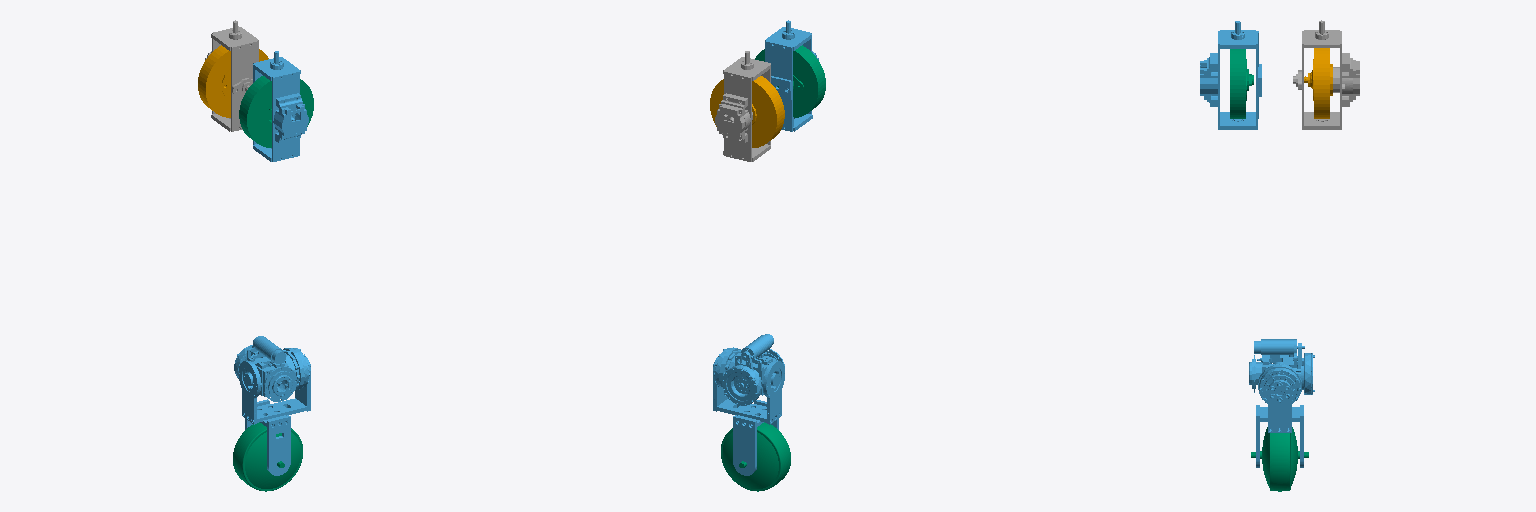
--- Facts derived from the render (not from the file) ---
The picture shows the robot from 3 angles, left to right: view 1: azimuth 30°, elevation 25°; view 2: azimuth 150°, elevation 25°; view 3: azimuth 270°, elevation 25°; orthographic projection.
Robot: wheeled_inverted_pendulum — 11 links, 10 joints (4 revolute, 3 continuous, 3 fixed); root link ankle; default pose: all joints at 0.
Links seen in each view (by area): view 1: ankle_link, Right_gimbal, wheel_link, Left_gimbal, Right_flywheel, Left_flywheel; view 2: ankle_link, Left_gimbal, wheel_link, Right_gimbal, Left_flywheel, Right_flywheel; view 3: ankle_link, Left_gimbal, Right_gimbal, wheel_link, Left_flywheel, Right_flywheel.
Boxes of the visible links, left/top/right/bottom form: ankle_link: left=234, top=336, right=310, bottom=475; Right_gimbal: left=253, top=51, right=308, bottom=161; wheel_link: left=233, top=422, right=302, bottom=491; Left_gimbal: left=205, top=20, right=258, bottom=131; Right_flywheel: left=239, top=76, right=313, bottom=147; Left_flywheel: left=198, top=45, right=268, bottom=117; ankle_link: left=713, top=334, right=784, bottom=475; Left_gimbal: left=715, top=51, right=770, bottom=161; wheel_link: left=721, top=422, right=790, bottom=491; Right_gimbal: left=765, top=20, right=818, bottom=131; Left_flywheel: left=710, top=76, right=784, bottom=147; Right_flywheel: left=755, top=45, right=825, bottom=117; ankle_link: left=1249, top=339, right=1314, bottom=467; Left_gimbal: left=1293, top=20, right=1359, bottom=129; Right_gimbal: left=1200, top=21, right=1261, bottom=129; wheel_link: left=1251, top=427, right=1308, bottom=491; Left_flywheel: left=1304, top=48, right=1332, bottom=118; Right_flywheel: left=1230, top=49, right=1253, bottom=118.
Bounding box of the posed robot: 0.1868 × 0.3059 × 0.968 m (x, y, z).
6 mesh visuals loaded from 9 distinct referenced files (6 binary STL); not drawn: 3 (reference not matched to a file when rendering).

robot.urdf — wheeled_inverted_pendulum:
<?xml version="1.0"?>

<robot name="wheeled_inverted_pendulum">

        <link name="ankle">		    
		</link>

        <joint name="cmg_joint" type="fixed">
		    <origin xyz="0 0 0.24" rpy="0.0 0.0 0.0" /> 
		    <parent link="ankle"/>
		    <child link="ankle_link"/>
            <!-- <axis xyz="0 1 0"/>
            <limit effort="100" velocity="1000"/>
            <joint_properties damping="1.0" friction="1.0"/> -->
		</joint> 

        <link name="ankle_link">
            <visual>
                <origin xyz="0.0 0.0 0.0" rpy="0 0.0 0"/> 
                <geometry>
                    <mesh filename="package://cmg_leg_description/meshes/ankle_link.STL" scale="0.001 0.001 0.001"/>         
                </geometry>
                <material name=""/>
                    
            </visual>

            <collision>
                <origin xyz="0 0 0" rpy="0 0.0 0"/>
                <geometry>
                    <!-- <box size = "  0.127 0.168778 0.958442 "/>                     -->
                    <mesh filename="package://cmg_leg_description/meshes/ankle_link.STL" scale="0.001 0.001 0.001"/>
                </geometry>
            </collision>

            <inertial>
                <mass value="2.786" /> 
                <origin xyz="0.0 0.0 0.0" rpy="0 0.0 0"/>
                <inertia ixx="0.00613516" ixy="0.000236068"  ixz="0.000181401"  iyy="0.00614941"  iyz="0.000207986" izz="0.004981955" />
            </inertial>
        </link> 

        <joint name="wheel_joint" type="continuous">
		    <!-- <origin xyz="0 -0.0045 -0.451221" rpy="0.0 0.0 0.0" />  -->
		    <origin xyz="0 0 -0.171" rpy="0.0 0.0 0.0" /> 
            <axis xyz="0 1 0"/>
		    <parent link="ankle_link"/>
		    <child link="wheel_link" />
            <limit effort="100" velocity="1000" upper="0" lower="0.0"/>
            <joint_properties damping="1.0" friction="1.0"/>
		</joint>

         <link name="wheel_link">
            <visual>
                <origin xyz="0.0 0.0 -0.0" rpy="0 0.0 0"/> 
                <geometry>
                    <mesh filename="package://cmg_leg_description/meshes/wheel_link.STL" scale="0.001 0.001 0.001"/>         
                </geometry>
                <material name=""/>
            </visual>

            <collision>                
                <origin xyz="0 0 -0.0" rpy="0 0.0 0"/>
                <geometry>
                    <mesh filename="package://cmg_leg_description/meshes/wheel_link.STL" scale="0.001 0.001 0.001"/>                 
                </geometry>
            </collision>

            <inertial>
                <mass value="2.292" />
                <origin xyz="0 0 -0.0" />
                <inertia ixx="0.002997277" ixy="0.0" ixz="0.0" iyy="0.004806909" iyz="0.0" izz="0.002997301"/>
            </inertial>
        </link> 

<!-- ######################################################################################### -->
<!-- 0.171 -->
        <joint name="ankle_pitch_joint" type="revolute">
		    <origin xyz="0 0 0.0" rpy="0.0 0.745238866846359 0.0" /> 
            <!-- 0.745238866846359 -->
            <axis xyz="0 1 0"/>
		    <parent link="ankle_link"/>
		    <child link="knee_ankle_link" />
            <limit effort="1000" velocity="1000" upper="2" lower="-2"/>
            <joint_properties damping="1.0" friction="1.0"/>
		</joint> 

        <link name="knee_ankle_link">
            <visual>
                <origin xyz="0.000045 -0.059 0.279972" rpy="3.14 -0 0"/> 
                <geometry>
                    <mesh filename="package://cmg_leg_description/meshes/knee_to_ankle_pitch_link.STL" scale="0.001 0.001 0.001"/>         
                </geometry>
                <material name=""/>
                    
            </visual>

            <collision>
                <origin xyz="0.000045 -0.059 0.279972" rpy="3.14 -0 0"/>
                <geometry>
                    <!-- <box size = "  0.127 0.168778 0.958442 "/>                     -->
                    <mesh filename="package://cmg_leg_description/meshes/knee_to_ankle_pitch_link.STL" scale="0.001 0.001 0.001"/>
                </geometry>
            </collision>

            <inertial>
                <mass value="1.416" /> 
                <origin xyz="0.0 0 0.234683" rpy="3.14 -0 0"/>
                <inertia ixx="0.010192583" ixy="0.000128782"  ixz="0.000780769"  iyy="0.009599672"  iyz="-0.000476197" izz="0.002390603" />
            </inertial>
        </link>

<!-- ######################################################################################### -->

        <joint name="knee_joint" type="fixed">
		    <origin xyz="0 0 0.279942" rpy="0.0 -1.63070174355873 0.0" />
            <!-- -1.63070174355873 -->
            <!-- <axis xyz="0 1 0"/> -->
		    <parent link="knee_ankle_link"/>
		    <child link="hip_to_knee_link" />
            <!-- <limit effort="1000" velocity="1000" upper="0" lower="0"/>
            <joint_properties damping="1.0" friction="1.0"/> -->
		</joint>

        <link name="hip_to_knee_link">
            <visual>
                <origin xyz="0.0 0.0665 0.28" rpy="3.14 0 0"/> 
                <geometry>
                    <mesh filename="package://cmg_leg_description/meshes/hip_to_knee_link.STL" scale="0.001 0.001 0.001"/>         
                </geometry>
                <material name=""/>
                    
            </visual>

            <collision>
                <origin xyz="0 0.0665 0.28" rpy="3.14 0 0"/>
                <geometry>
                    <mesh filename="package://cmg_leg_description/meshes/hip_to_knee_link.STL" scale="0.001 0.001 0.001"/>
                </geometry>
            </collision>

            <inertial>
                <mass value="1.739" /> 
                <origin xyz="0.0 0 0.09122" rpy="3.14 0 0"/>
                <inertia ixx="0.008595913" ixy="0.000104152"  ixz="0.000298503"  iyy="0.007917693"  iyz="-0.000246913" izz="0.002944951" />
            </inertial>
        </link>

<!-- ######################################################################################### -->

        <joint name="hip_pitch_joint" type="fixed">
		    <origin xyz="0 0 0.28" rpy="0.0 0.885462876712376 0.0" />
            <!-- 0.885462876712376  -->
            <!-- <axis xyz="0 1 0"/> -->
		    <parent link="hip_to_knee_link"/>
		    <child link="cmg_hip_link" />
            <!-- <limit effort="1000" velocity="1000" upper="0" lower="0.0"/>
            <joint_properties damping="1.0" friction="1.0"/> -->
		</joint>

         <link name="cmg_hip_link">
            <visual>
                <origin xyz="0 0 0.2222" rpy="1.5708 0.0 0"/>
                <geometry>
                    <mesh filename="package://cmg_leg_description/meshes/cmg_hip_link.STL" scale="0.001 0.001 0.001"/>         
                </geometry>
                <material name=""/>
            </visual>

            <collision>
                <origin xyz="0 0 0.2222" rpy="1.5708 0.0 0.0"/>
                <geometry>
                    <mesh filename="package://cmg_leg_description/meshes/cmg_hip_link.STL" scale="0.001 0.001 0.001"/>
                </geometry>
            </collision>

            <inertial>
                <mass value="7.774" /> 
                <origin xyz="0 0 0.072559" rpy="1.5708 0.0 0"/>
                <inertia ixx="0.139286607" ixy="0.004107971"  ixz="-0.000319636"  iyy="0.064161554"  iyz="-0.0020881"  izz="0.141628284" />
            </inertial>
        </link>

        <joint name="imu_joint" type="revolute">
		    <origin xyz="0 0 0.28" rpy="0.0 0.0 0.0" />
		    <parent link="cmg_hip_link"/>
		    <child link="imu_link" />
            <axis xyz="0 0 1"/>
            <limit effort="1000" velocity="1000" upper="0" lower="0.0"/>
            <joint_properties damping="1.0" friction="1.0"/>
		</joint>

        <link name="imu_link">
            <geometry>
                    <box size="0.001 0.001 0.001"/>
            </geometry>
           
        </link>

<!-- ######################################################################################### -->

        <joint name="Left_gimbal_joint" type="revolute">
            <origin xyz="0 0.08 0.222" rpy="0 0 0"/>
            <axis xyz="0 0 1" />
            <parent link="cmg_hip_link"/>
            <child link="Left_gimbal"/>            
            <limit effort="100" velocity="100" upper="1.57" lower="-1.57"/>
            <joint_properties damping="0.0" friction="0.0"/>
            <mimic joint="Right_gimbal_joint" multiplier="-1.0"/>

        </joint>

<!-- ######################################################################################### -->

        <link name="Left_gimbal">
            <visual>
                <origin xyz="0.0 0.0 0.0" rpy="0 0.0 0"/> 
                <geometry>
                    <mesh filename="package://cmg_leg_description/meshes/left_gimbal_link.STL" scale="0.001 0.001 0.001"/>         
                </geometry>
                <material name=""/>
            </visual>
            <collision>
                <origin xyz="0 0 0" rpy="0 0.0 0.0"/>
                <geometry>
                    <mesh filename="package://cmg_leg_description/meshes/left_gimbal_link.STL" scale="0.001 0.001 0.001"/>        
                </geometry>
            </collision>
            <inertial>
                <mass value="0.92" />
                <origin xyz="0 0 0" />
                <inertia ixx="0.004692" ixy="0" ixz="0" iyy="0.004132" iyz="0" izz="0.001112"/>
            </inertial>
        </link>

<!-- ######################################################################################### -->

         <joint name="Left_flywheel_joint" type="continuous">
            <origin xyz="0 0 0" rpy="0 0 0"/>
            <axis xyz="0 1 0" />
            <parent link="Left_gimbal"/>
            <child link="Left_flywheel"/>
            <limit effort="100" velocity="1000"/>
            <joint_properties damping="0.0" friction="0.0"/>
            <mimic joint="Right_gimbal_joint" multiplier="-1.0"/>
        </joint>

<!-- ######################################################################################### -->

        <link name="Left_flywheel">
            <visual>
                <origin xyz="0 0 0" rpy="0 0 0" />
                <geometry>
                    <mesh filename="package://cmg_leg_description/meshes/left_flywheel_link.STL" scale="0.001 0.001 0.001" />
                </geometry>
                <material name=""/>
            </visual>

            <collision>
                <geometry>
                    <mesh filename="package://cmg_leg_description/meshes/left_flywheel_link.STL" scale="0.001 0.001 0.001" />
                </geometry>
            </collision>

            <inertial>
                <mass value="3.73" />
                <origin xyz="0 0 0" />
                <inertia ixx="0.006235" ixy="0" ixz="0" iyy="0.0119107" iyz="0" izz="0.006235"/>
            </inertial>
        </link>

<!-- ######################################################################################### -->

        <joint name="Right_gimbal_joint" type="revolute">            
            <origin xyz="0 -0.08 0.222" rpy="0 0 0"/>
            <axis xyz="0 0 1" />
            <parent link="cmg_hip_link"/>
            <child link="Right_gimbal"/>            
            <limit effort="100" velocity="100" upper="1.57" lower="-1.57"/>
            <joint_properties damping="0.0" friction="0"/>
        </joint>

<!-- ######################################################################################### -->

        <link name="Right_gimbal">
            <visual>
                <origin xyz="0.0 0.0 0.0" rpy="0 0.0 3.14"/> 
                <geometry>
                    <mesh filename="package://cmg_leg_description/meshes/right_gimbal_link.STL" scale="0.001 0.001 0.001"/>         
                </geometry>
                <material name=""/>
            </visual>
            <collision>
                <origin xyz="0 0 0" rpy="0 0.0 3.14"/>
                <geometry>
                    <mesh filename="package://cmg_leg_description/meshes/right_gimbal_link.STL" scale="0.001 0.001 0.001"/>        
                </geometry>
            </collision>
            <inertial>
                <mass value="0.92" />
                <origin xyz="0 0 0" />
                <inertia ixx="0.004692" ixy="0" ixz="0" iyy="0.004132" iyz="0" izz="0.001112"/>
            </inertial>
        </link>

<!-- ######################################################################################### -->

        <joint name="Right_flywheel_joint" type="continuous">
            <origin xyz="0 0 0" rpy="0 0 0"/>
            <axis xyz="0 1 0" />
            <parent link="Right_gimbal"/>
            <child link="Right_flywheel"/>
            <limit effort="100" velocity="1000"/>
            <joint_properties damping="0.0" friction="0.0"/>
        </joint>

<!-- ######################################################################################### -->

        <link name="Right_flywheel">
            <visual>
                <origin xyz="0 0 0" rpy="3.14 0 0" />
                <geometry>
                    <mesh filename="package://cmg_leg_description/meshes/right_flywheel_link.STL" scale="0.001 0.001 0.001" />
                </geometry>
                <material name=""/>
            </visual>

            <collision>
                <origin xyz="0 0 0" rpy="3.14 0 0" />
                <geometry>
                    <mesh filename="package://cmg_leg_description/meshes/right_flywheel_link.STL" scale="0.001 0.001 0.001" />
                </geometry>
            </collision>

            <inertial>
                <mass value="3.73" />
                <origin xyz="0 0 0" />
                <inertia ixx="0.006235" ixy="0" ixz="0" iyy="0.0119107" iyz="0" izz="0.006235"/>
            </inertial>
        </link>

<!-- ######################################################################################### -->

        <gazebo reference="cmg_hip_link">
            <mu1>1.0</mu1>
            <mu2>1.0</mu2> 
            <kp>1e+13</kp>
            <kd>1.0</kd>
            <maxVel>0.001</maxVel>
            <minDepth>0.00000000001</minDepth>
            <gravity>1</gravity>
            <material>Gazebo/Grey</material>
            <!-- <selfCollide>true</selfCollide> -->
        </gazebo>

        <gazebo reference="ankle">
            <mu1>1.0</mu1>
            <mu2>1.0</mu2> 
            <kp>1e+13</kp>
            <kd>1.0</kd>
            <maxVel>0.001</maxVel>
            <minDepth>0.00000000001</minDepth>
            <gravity>1</gravity>
            <material>Gazebo/Grey</material>
            <!-- <selfCollide>true</selfCollide> -->
        </gazebo>

        <gazebo reference="Left_gimbal">
            <mu1>1.0</mu1>
            <mu2>1.0</mu2> 
            <kp>1e+13</kp>
            <kd>1.0</kd>
            <maxVel>0.001</maxVel>
            <minDepth>0.00000000001</minDepth>
            <gravity>1</gravity>
            <material>Gazebo/Grey</material>
            <selfCollide>true</selfCollide>
        </gazebo>

        <gazebo reference="Left_flywheel">
            <mu1>1.0</mu1>
            <mu2>1.0</mu2> 
            <kp>1e+13</kp>
            <kd>1.0</kd>
            <maxVel>0.001</maxVel>
            <minDepth>0.00000000001</minDepth>
            <gravity>1</gravity>
            <material>Gazebo/White</material>
        </gazebo>


        <gazebo reference="Right_gimbal">
            <mu1>1.0</mu1>
            <mu2>1.0</mu2> 
            <kp>1e+13</kp>
            <kd>1.0</kd>
            <maxVel>0.001</maxVel>
            <minDepth>0.00000000001</minDepth>
            <gravity>1</gravity>
            <material>Gazebo/Grey</material>
            <selfCollide>true</selfCollide>
        </gazebo>

        <gazebo reference="Right_flywheel">
            <mu1>1.0</mu1>
            <mu2>1.0</mu2> 
            <kp>1e+13</kp>
            <kd>1.0</kd>
            <maxVel>0.001</maxVel>
            <minDepth>0.00000000001</minDepth>
            <gravity>1</gravity>
            <material>Gazebo/White</material>
        </gazebo>


<!-- ######################################################################################### -->

        <gazebo reference="hip_link">
            <mu1>1.0</mu1>
            <mu2>1.0</mu2> 
            <kp>1e+13</kp>
            <kd>1.0</kd>
            <maxVel>0.001</maxVel>
            <minDepth>0.00000000001</minDepth>
            <gravity>1</gravity>
            <material>Gazebo/Grey</material>
        </gazebo>

        <gazebo reference="hip_to_knee_link">
            <mu1>1.0</mu1>
            <mu2>1.0</mu2> 
            <kp>1e+13</kp>
            <kd>1.0</kd>
            <maxVel>0.001</maxVel>
            <minDepth>0.00000000001</minDepth>
            <gravity>1</gravity>
            <material>Gazebo/Grey</material>
        </gazebo>

        <gazebo reference="knee_ankle_link">
            <mu1>1.0</mu1>
            <mu2>1.0</mu2> 
            <kp>1e+13</kp>
            <kd>1.0</kd>
            <maxVel>0.001</maxVel>
            <minDepth>0.00000000001</minDepth>
            <gravity>1</gravity>
            <material>Gazebo/Grey</material>
        </gazebo>

        <gazebo reference="ankle_link">
            <mu1>1.0</mu1>
            <mu2>1.0</mu2> 
            <kp>1e+13</kp>
            <kd>1.0</kd>
            <maxVel>0.001</maxVel>
            <minDepth>0.00000000001</minDepth>
            <gravity>1</gravity>
            <material>Gazebo/Grey</material>
        </gazebo>

        <gazebo reference="wheel_link">
            <collision name="wheel_collision">
                <surface>
                    <friction>
                        <torsional>
                            <coefficient>1</coefficient>
                            <use_patch_radius>true</use_patch_radius>
                            <patch_radius>0.02</patch_radius>
                        </torsional>
                    </friction>
                </surface>
            </collision>
            <mu1>1.0</mu1>
            <mu2>1.0</mu2> 
            <kp>1e+13</kp>
            <kd>1.0</kd>
            <maxVel>0.001</maxVel>
            <minDepth>0.00000000001</minDepth>
            <gravity>1</gravity>
            <material>Gazebo/White</material>
        </gazebo>

        <!-- <gazebo reference="imu_link">
            <gravity>true</gravity>
            <sensor name="imu_sensor" type="imu">
            <always_on>true</always_on>
            <update_rate>100</update_rate>
            <visualize>true</visualize>
            <topic>__default_topic__</topic>
            <plugin filename="libgazebo_ros_imu_sensor.so" name="imu_plugin">
                <topicName>imu</topicName>
                <bodyName>imu_link</bodyName>
                <updateRateHZ>10.0</updateRateHZ>
                <gaussianNoise>0.0</gaussianNoise>
                <xyzOffset>0 0 0</xyzOffset>
                <rpyOffset>0 0 0</rpyOffset>
                <frameName>imu_link</frameName>
                <initialOrientationAsReference>false</initialOrientationAsReference>
            </plugin>
            <pose>0 0 0 0 0 0</pose>
            </sensor>
        </gazebo> -->


<!-- ######################################################################################### -->

        <gazebo>
            <plugin name="gazebo_ros_control" filename="libgazebo_ros_control.so">
                <controlPeriod>0.001</controlPeriod>
                <robotNamespace>/wheeled_inverted_pendulum</robotNamespace>
                <!-- <jointName> Right_gimbal_joint, Left_gimbal_joint, Left_flywheel_joint, Right_flywheel_joint, hip_roll_joint, hip_pitch_joint, knee_joint, ankle_pitch_joint, ankle_roll_joint, wheel_joint </jointName> -->
                <robotSimType>gazebo_ros_control/DefaultRobotHWSim</robotSimType>
                <legacyModeNS>true</legacyModeNS>
            </plugin>
        </gazebo>

        <!-- <gazebo>
            <plugin name="joint_state_publisher" filename="libgazebo_ros_joint_state_publisher.so">
                <jointName> Right_gimbal_joint, Left_flywheel_joint, Right_flywheel_joint, ankle_pitch_joint, wheel_joint </jointName>
                <updateRate>1000.0</updateRate>
            </plugin>
        </gazebo> -->

        <gazebo>
            <plugin name="mimic_control" filename="libroboticsgroup_upatras_gazebo_mimic_joint_plugin.so">
                <joint>Right_gimbal_joint</joint>
                <mimicJoint>Left_gimbal_joint</mimicJoint>
                <multiplier>-1.0</multiplier>
                <!-- <hasPID>/gazebo_ros_control/pid_gains/Left_gimbal_joint</hasPID> -->
                <!-- /gazebo_ros_control/pid_gains/Left_gimbal_joint -->
            </plugin>
        </gazebo>

        <transmission name="Left_flywheel_trans">
            <type>transmission_interface/SimpleTransmission</type>
            <joint name="Left_flywheel_joint" >
                <hardwareInterface>hardware_interface/VelocityJointInterface</hardwareInterface>
            </joint>
            <actuator name="Left_flywheel_motor">
                <hardwareInterface>hardware_interface/VelocityJointInterface</hardwareInterface>
                <mechanicalReduction>1</mechanicalReduction>
            </actuator>
        </transmission>

        <!-- <transmission name="Left_gimbal_trans">
            <type>transmission_interface/SimpleTransmission</type>
            <joint name="Left_gimbal_joint" >
                <hardwareInterface>hardware_interface/EffortJointInterface</hardwareInterface>
            </joint>
            <actuator name="Left_gimbal_motor">
                <hardwareInterface>hardware_interface/EffortJointInterface</hardwareInterface>
                <mechanicalReduction>1</mechanicalReduction>
            </actuator>
        </transmission> -->


        <transmission name="Right_flywheel_trans">
            <type>transmission_interface/SimpleTransmission</type>
            <joint name="Right_flywheel_joint" >
                <hardwareInterface>hardware_interface/VelocityJointInterface</hardwareInterface>
            </joint>
            <actuator name="Right_flywheel_motor">
                <hardwareInterface>hardware_interface/VelocityJointInterface</hardwareInterface>
                <mechanicalReduction>1</mechanicalReduction>
            </actuator>
        </transmission>

        <transmission name="Right_gimbal_trans">
            <type>transmission_interface/SimpleTransmission</type>
            <joint name="Right_gimbal_joint" >
                <hardwareInterface>hardware_interface/EffortJointInterface</hardwareInterface>
            </joint>
            <actuator name="Right_gimbal_motor">
                <hardwareInterface>hardware_interface/EffortJointInterface</hardwareInterface>
                <mechanicalReduction>1</mechanicalReduction>
            </actuator>
        </transmission>

<!-- ######################################################################################### -->

        <!-- <transmission name="hip_pitch_trans">
            <type>transmission_interface/SimpleTransmission</type>
            <joint name="hip_pitch_joint" >
                <hardwareInterface>hardware_interface/EffortJointInterface</hardwareInterface>
            </joint>
            <actuator name="hip_pitch_motor">
                <hardwareInterface>hardware_interface/EffortJointInterface</hardwareInterface>
                <mechanicalReduction>1</mechanicalReduction>
            </actuator>
        </transmission>

        <transmission name="knee_trans">
            <type>transmission_interface/SimpleTransmission</type>
            <joint name="knee_joint" >
                <hardwareInterface>hardware_interface/EffortJointInterface</hardwareInterface>
            </joint>
            <actuator name="knee_motor">
                <hardwareInterface>hardware_interface/EffortJointInterface</hardwareInterface>
                <mechanicalReduction>1</mechanicalReduction>
            </actuator>
        </transmission> -->

        <transmission name="ankle_pitch_trans">
            <type>transmission_interface/SimpleTransmission</type>
            <joint name="ankle_pitch_joint" >
                <hardwareInterface>hardware_interface/EffortJointInterface</hardwareInterface>
            </joint>
            <actuator name="ankle_pitch_motor">
                <hardwareInterface>hardware_interface/EffortJointInterface</hardwareInterface>
                <mechanicalReduction>100</mechanicalReduction>
            </actuator>
        </transmission>

        <transmission name="wheel_trans">
            <type>transmission_interface/SimpleTransmission</type>
            <joint name="wheel_joint" >
                <hardwareInterface>hardware_interface/EffortJointInterface</hardwareInterface>
            </joint>
            <actuator name="wheel_motor">
                <hardwareInterface>hardware_interface/EffortJointInterface</hardwareInterface>
                <mechanicalReduction>1</mechanicalReduction>
            </actuator>
        </transmission>

<!-- EffortJointInterface
PositionJointInterface
VelocityJointInterface -->

</robot>
